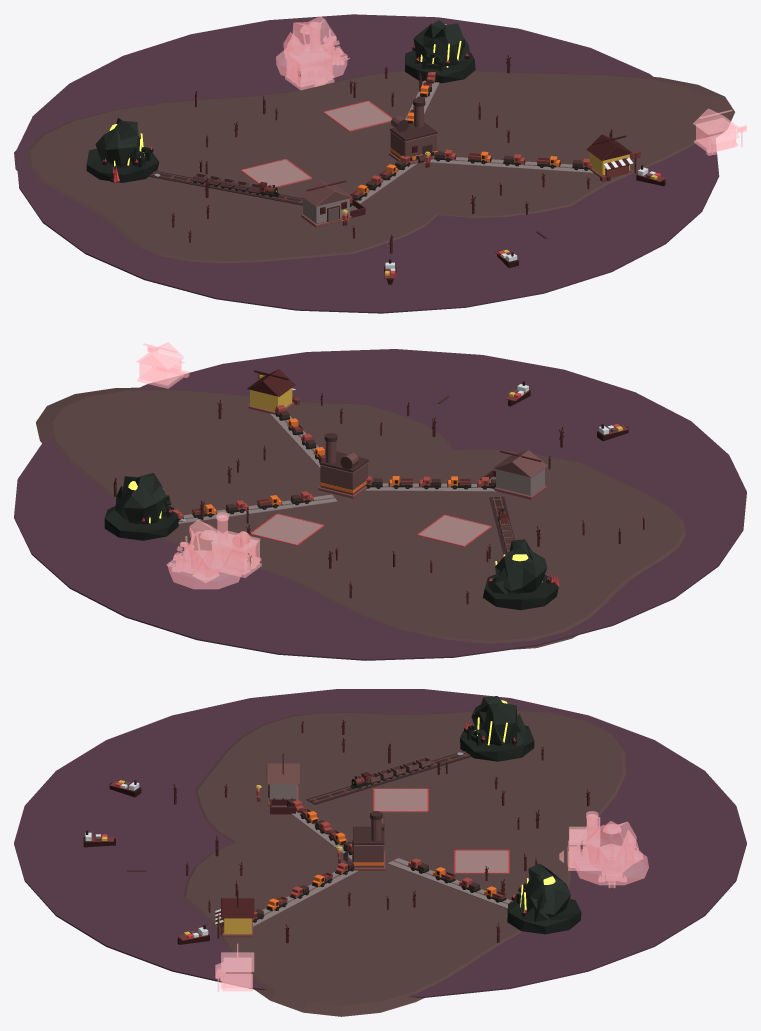
The model's file is Island_Ruby.fbx.
3 views of the same model, one above another, from view 1: azimuth 30°, elevation 25°; view 2: azimuth 150°, elevation 25°; view 3: azimuth 270°, elevation 25° (orthographic). The views are drawn at different scales.
Parts seen in each view (by area): view 1: isle_Ruby, lagoon_Ruby, mine_Ruby.001, mine_Ruby, ghost_mine.005, ghost_refinery.005, refinery.005, storage.005, market.005, ghost_market.005, pad_expand.011, pad_expand.010 (+2 smaller); view 2: isle_Ruby, lagoon_Ruby, mine_Ruby.001, mine_Ruby, ghost_mine.005, refinery.005, storage.005, ghost_refinery.005, ghost_market.005, market.005, pad_expand.010, pad_expand.011 (+2 smaller); view 3: isle_Ruby, lagoon_Ruby, mine_Ruby.001, mine_Ruby, ghost_mine.005, refinery.005, ghost_refinery.005, storage.005, market.005, ghost_market.005, pad_expand.010, pad_expand.011 (+3 smaller).
Boxes of the visible parts, box(x1,y1,x2,y2) form: isle_Ruby: box(14, 70, 734, 263); lagoon_Ruby: box(15, 14, 719, 313); mine_Ruby.001: box(405, 20, 475, 83); mine_Ruby: box(86, 118, 160, 182); ghost_mine.005: box(276, 16, 349, 77); ghost_refinery.005: box(285, 22, 334, 90); refinery.005: box(389, 98, 437, 164); storage.005: box(300, 180, 365, 227); market.005: box(586, 134, 640, 181); ghost_market.005: box(693, 108, 746, 155); pad_expand.011: box(323, 101, 392, 131); pad_expand.010: box(241, 159, 311, 187); isle_Ruby: box(36, 387, 686, 649); lagoon_Ruby: box(14, 349, 746, 660); mine_Ruby.001: box(104, 473, 182, 540); mine_Ruby: box(483, 539, 558, 610); ghost_mine.005: box(166, 520, 242, 589); refinery.005: box(318, 433, 368, 498); storage.005: box(480, 450, 547, 499); ghost_refinery.005: box(211, 512, 261, 577); ghost_market.005: box(136, 342, 189, 388); market.005: box(247, 369, 299, 414); pad_expand.010: box(417, 515, 491, 546); pad_expand.011: box(250, 513, 324, 545); isle_Ruby: box(183, 710, 625, 1016); lagoon_Ruby: box(14, 689, 746, 997); mine_Ruby.001: box(507, 863, 581, 934); mine_Ruby: box(460, 696, 534, 761); ghost_mine.005: box(573, 821, 648, 887); refinery.005: box(343, 811, 385, 870); ghost_refinery.005: box(559, 811, 600, 870); storage.005: box(266, 753, 299, 814); market.005: box(215, 889, 254, 938); ghost_market.005: box(215, 943, 254, 992); pad_expand.010: box(373, 788, 428, 812); pad_expand.011: box(454, 849, 509, 873).
Bounding box in the file's own units: 157 × 18.16 × 149.
